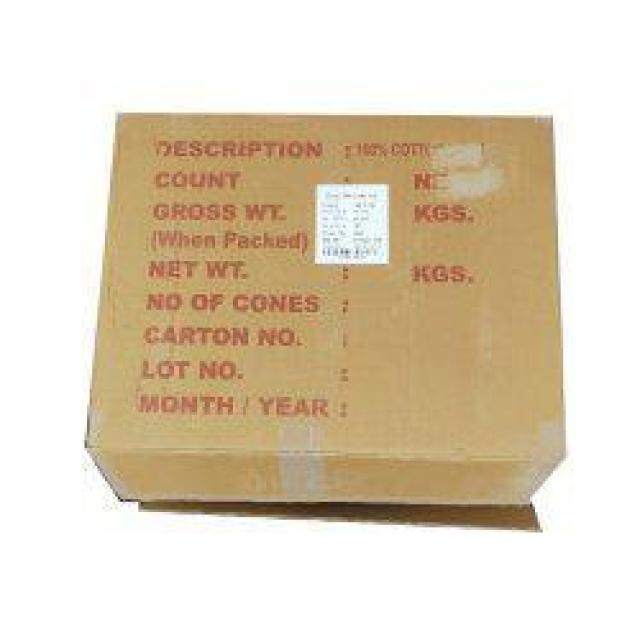cardboard: (87, 110, 568, 534)
